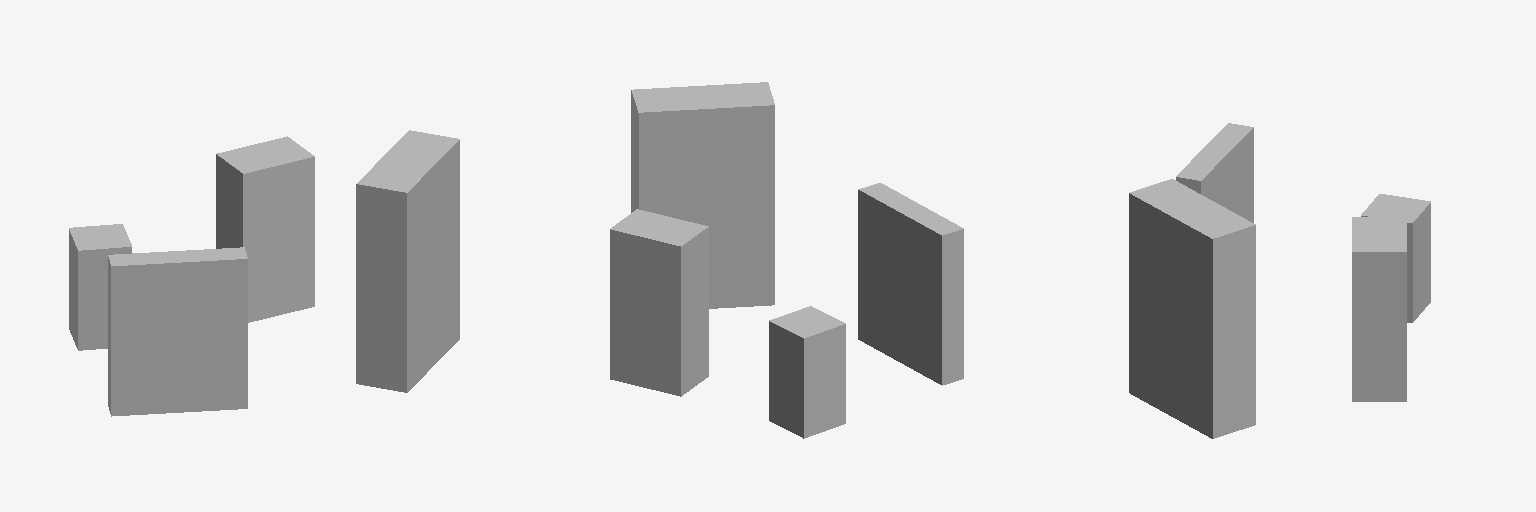
The model's file is alimentos1.obj.
The picture shows the model from 3 angles: view 1: azimuth 30°, elevation 25°; view 2: azimuth 150°, elevation 25°; view 3: azimuth 270°, elevation 25°; orthographic projection.
Parts seen in each view (by area): view 1: arroz, feijao, leite, tody; view 2: arroz, feijao, leite, tody; view 3: arroz, leite, feijao, tody.
Boxes of the visible parts, x1=… form: arroz: x1=356, y1=130, x2=459, y2=392; feijao: x1=108, y1=247, x2=247, y2=416; leite: x1=216, y1=136, x2=314, y2=322; tody: x1=69, y1=224, x2=131, y2=350; arroz: x1=631, y1=82, x2=774, y2=308; feijao: x1=858, y1=183, x2=963, y2=385; leite: x1=610, y1=209, x2=708, y2=396; tody: x1=769, y1=306, x2=845, y2=438; arroz: x1=1129, y1=179, x2=1255, y2=438; leite: x1=1352, y1=217, x2=1406, y2=401; feijao: x1=1176, y1=123, x2=1253, y2=222; tody: x1=1361, y1=194, x2=1430, y2=322.
Bounding box in the file's own units: 0.8913 × 0.5 × 0.686.